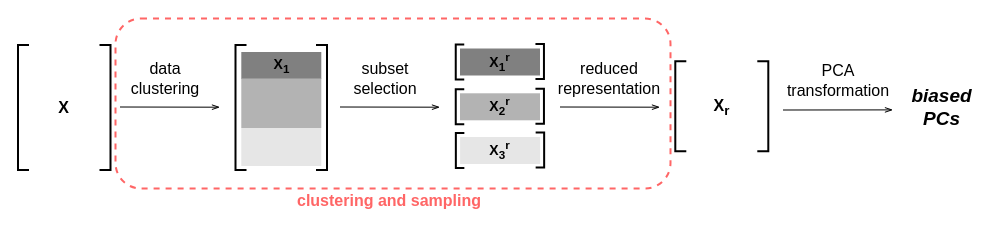
The diagram is 1001 pixels wide and 227 high, and some of its shapes have lost their labels. The shapes that lost their labels are listed below. From the top down, each one's centre as x and y in pixels, then its label:
(281,103): X 2
(281,147): X 3
